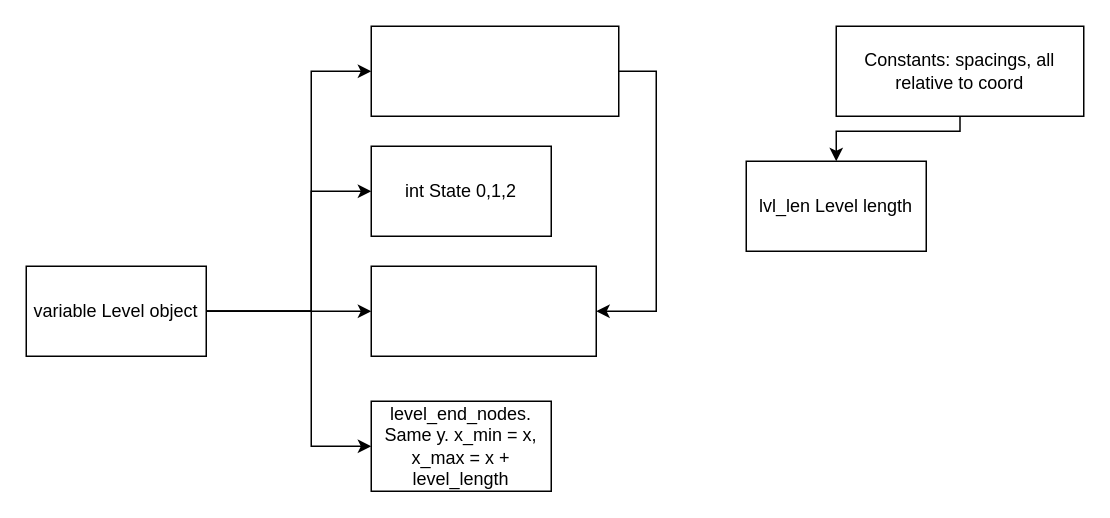
This 1110x518 diagram has some shape labels left out. Here are the shapes that lost their labels. From the top down, the centre of each, then its label:
the point at 494,70: tuple Coordinate (int x,int y)
the point at 483,310: dict? bounding_box_range X: (x-a, x+b), Y: (y-c, y+d)
